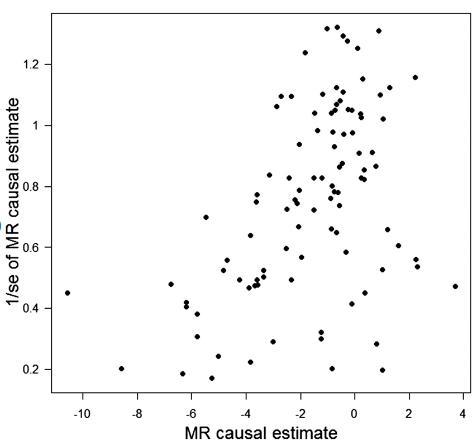axis: (45, 387, 473, 402), (43, 8, 56, 397)
point: (313, 332, 331, 346), (325, 360, 340, 375), (189, 331, 206, 343), (243, 355, 257, 369), (267, 335, 282, 348), (371, 339, 386, 352), (376, 363, 391, 376), (264, 168, 277, 182), (216, 266, 232, 277), (205, 372, 219, 384), (191, 307, 205, 319), (315, 326, 329, 338), (449, 280, 461, 294), (116, 361, 128, 374), (178, 369, 191, 381), (251, 188, 264, 200), (62, 287, 75, 298), (214, 350, 225, 363), (165, 279, 178, 290), (251, 197, 264, 208), (282, 173, 296, 183), (222, 255, 234, 266), (202, 211, 213, 223), (245, 229, 256, 241), (293, 220, 304, 232), (282, 242, 293, 254), (180, 302, 193, 312), (282, 204, 293, 215), (299, 49, 312, 58), (411, 263, 423, 272), (286, 276, 296, 286), (361, 288, 371, 298), (383, 225, 393, 235), (318, 174, 328, 184), (286, 91, 296, 101), (182, 298, 193, 307), (347, 299, 358, 308), (321, 25, 332, 34), (235, 275, 245, 284), (297, 253, 307, 262), (342, 247, 351, 257), (378, 265, 388, 274), (394, 241, 403, 251), (295, 186, 305, 195), (313, 127, 323, 136), (379, 114, 389, 123), (311, 108, 320, 118), (358, 75, 368, 84), (376, 90, 385, 100), (385, 83, 395, 92), (411, 73, 421, 82), (339, 31, 348, 41), (259, 266, 270, 274), (355, 148, 363, 159), (332, 229, 341, 238), (310, 174, 319, 183), (349, 128, 358, 137), (318, 90, 327, 99), (339, 87, 348, 96), (353, 44, 362, 53), (259, 274, 269, 282), (411, 255, 421, 263), (326, 225, 336, 233), (309, 207, 319, 215), (372, 163, 382, 171), (333, 24, 343, 32), (357, 115, 368, 122), (245, 284, 253, 293), (332, 83, 340, 92), (272, 103, 281, 111), (277, 92, 286, 100), (344, 37, 353, 45), (328, 183, 338, 190), (368, 149, 378, 156), (331, 101, 341, 108), (250, 281, 258, 289), (327, 194, 335, 202), (329, 188, 337, 196), (335, 188, 343, 196), (336, 202, 344, 210), (329, 128, 337, 136), (340, 130, 348, 138), (349, 106, 357, 114), (327, 110, 335, 118), (375, 27, 383, 35), (295, 141, 304, 148), (361, 177, 370, 184), (331, 107, 340, 114), (336, 97, 345, 104), (291, 196, 299, 203), (294, 201, 302, 208), (339, 159, 347, 166), (331, 143, 338, 151), (361, 166, 368, 174), (344, 106, 351, 114), (357, 110, 366, 116), (253, 275, 260, 282), (336, 164, 343, 171), (358, 174, 364, 182)
